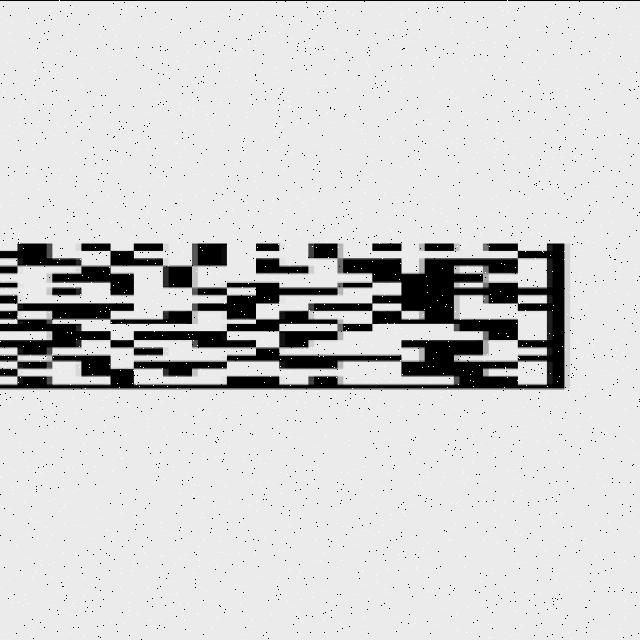datamatrix: (0, 230, 582, 400)
